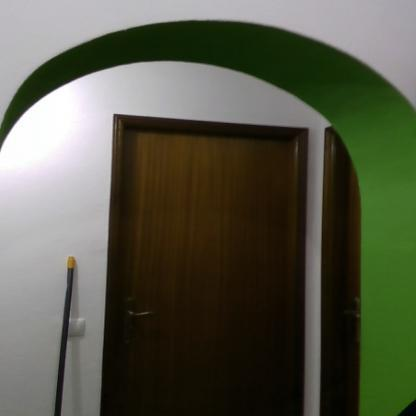door: (120, 130, 304, 416)
lever: (126, 308, 152, 324)
